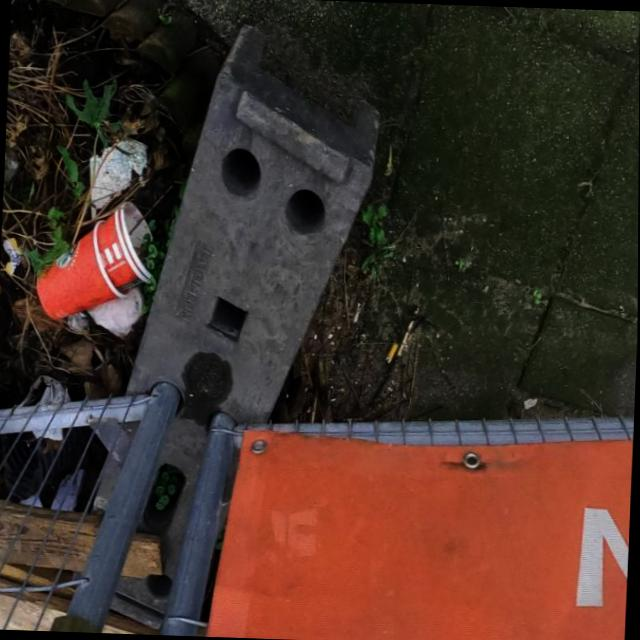Cup: (32, 188, 162, 327)
